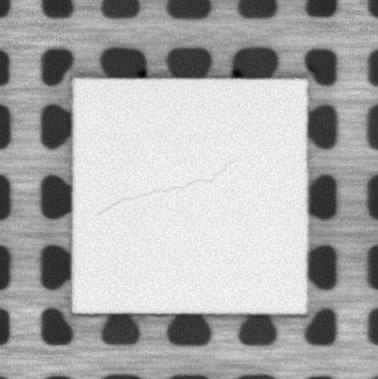DIE_CRACK: (96, 157, 237, 219)
